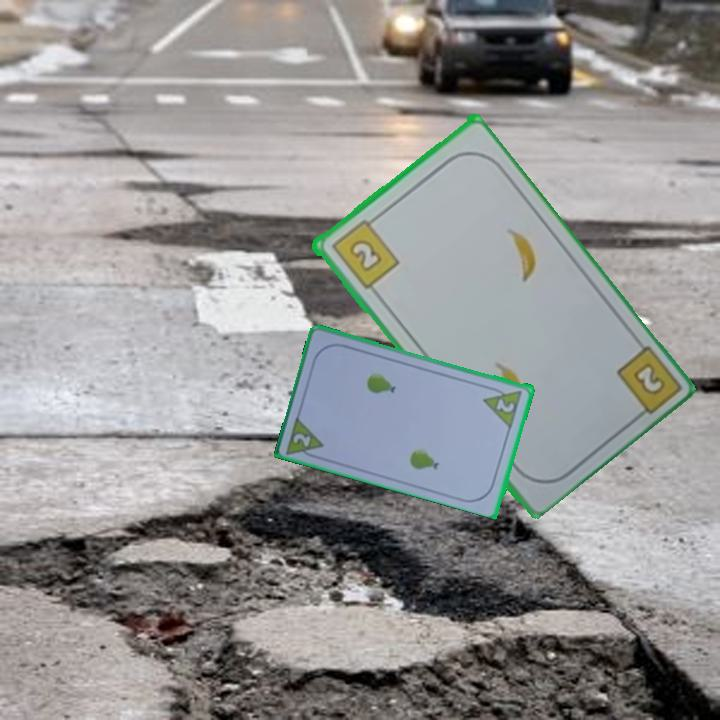2b: (327, 212, 402, 292), (628, 359, 668, 399)
2p: (480, 382, 525, 429), (289, 429, 314, 450)
